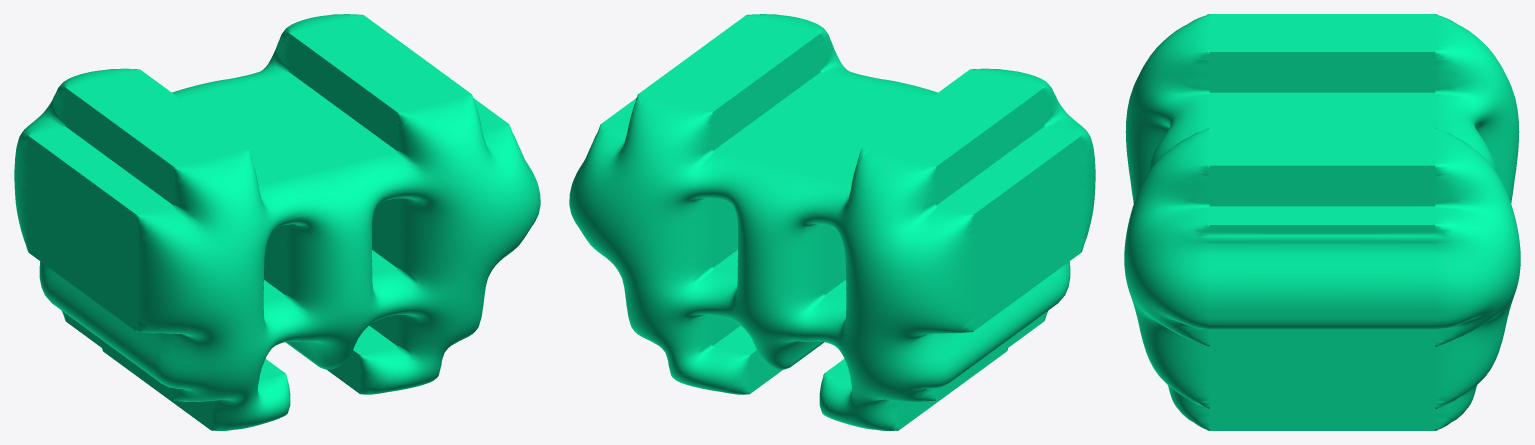
The model's file is DISCORD-Snot.gltf.
3 renders of one model, left to right at view 1: azimuth 30°, elevation 25°; view 2: azimuth 150°, elevation 25°; view 3: azimuth 270°, elevation 25°, orthographic. The views are drawn at different scales.
Bounding box in the file's own units: 0.0357 × 0.0236 × 0.0299.
